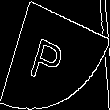P_N: (34, 25, 76, 85)
